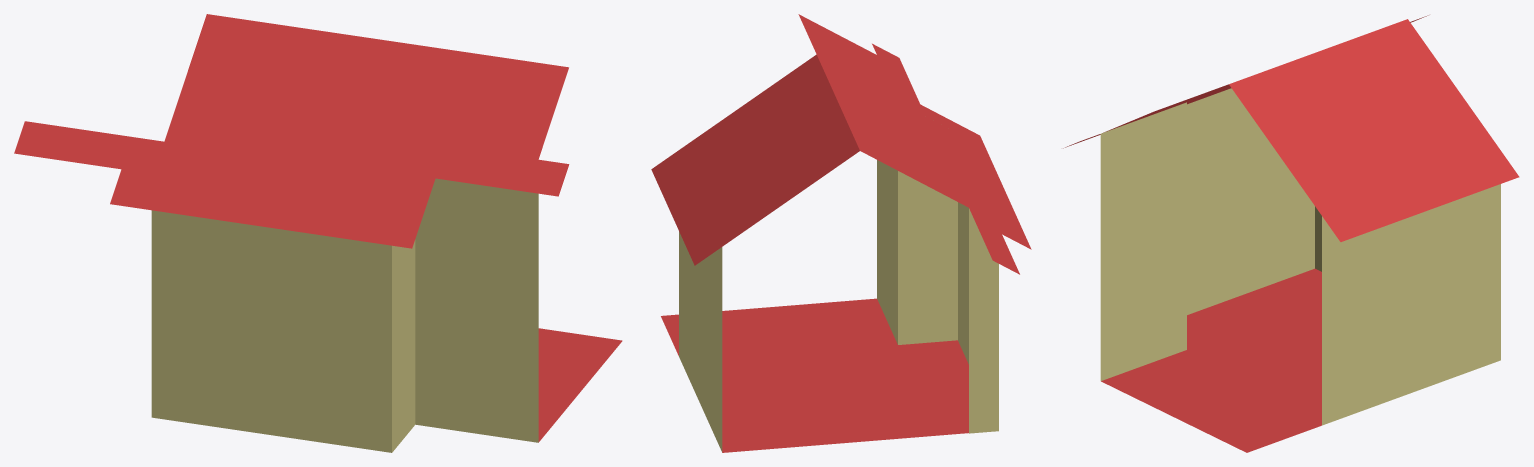
3 views of the same model, side by side, from view 1: azimuth 30°, elevation 25°; view 2: azimuth 150°, elevation 25°; view 3: azimuth 270°, elevation 25° (orthographic). The views are drawn at different scales.
Bounding box in the file's own units: 13.6 × 12.05 × 8.56.
